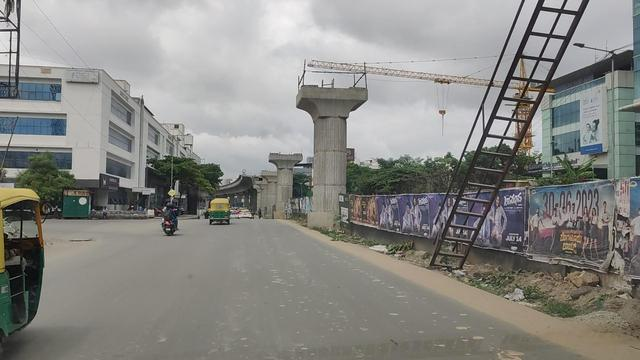LMV: (162, 203, 180, 235), (209, 198, 230, 222)
RoadDamages: (71, 234, 96, 246)
